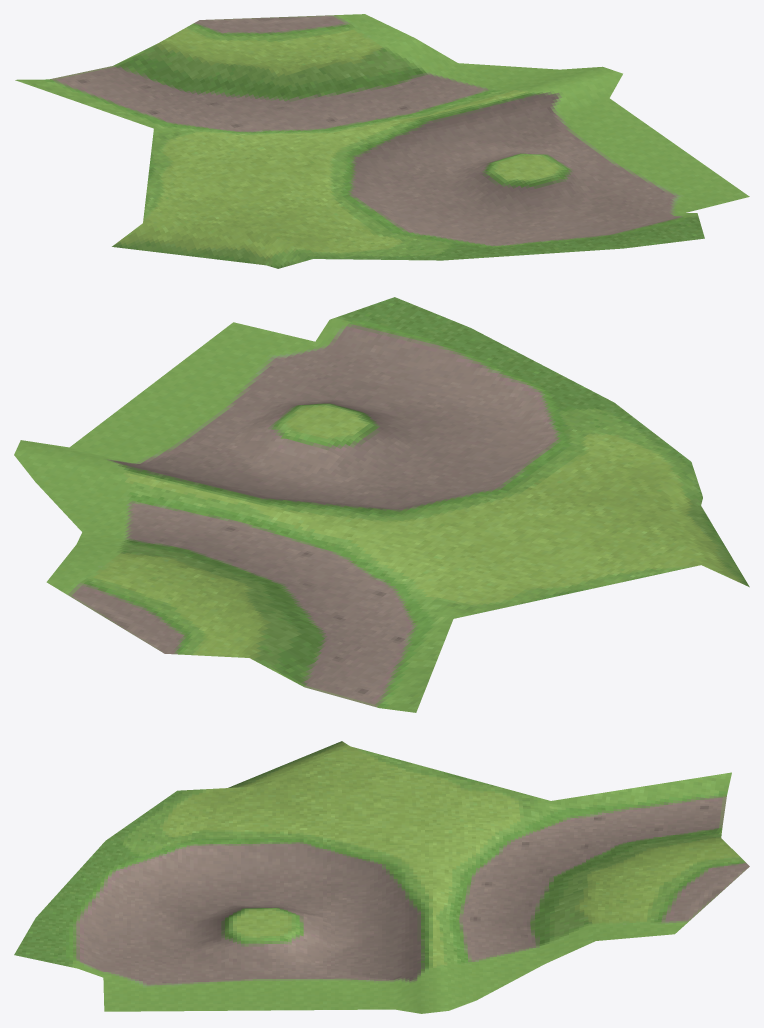
File: kd_stage_1366d7_0_7.glb
3 renders of one model, top to bottom at view 1: azimuth 30°, elevation 25°; view 2: azimuth 150°, elevation 25°; view 3: azimuth 270°, elevation 25°, orthographic. The views are drawn at different scales.
Visible parts, largest first — view 1: kd_stage_1366d7_0_7; view 2: kd_stage_1366d7_0_7; view 3: kd_stage_1366d7_0_7.
Part boxes in pixels (left/top/right/bottom): kd_stage_1366d7_0_7: left=15, top=14, right=749, bottom=268; kd_stage_1366d7_0_7: left=14, top=297, right=749, bottom=712; kd_stage_1366d7_0_7: left=14, top=741, right=749, bottom=1013.
Size of the model in its own units: 70.7 by 2.29 by 77.01.
Materials: 1 (1 with a texture image).
